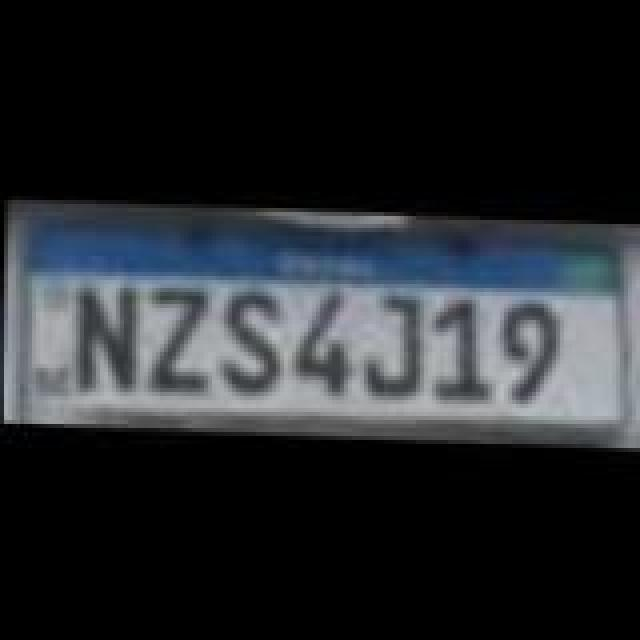1: (428, 286, 496, 398)
4: (290, 284, 354, 400)
9: (498, 290, 562, 406)
J: (360, 282, 428, 398)
N: (72, 276, 140, 396)
S: (216, 280, 284, 392)
Z: (142, 278, 214, 394)
